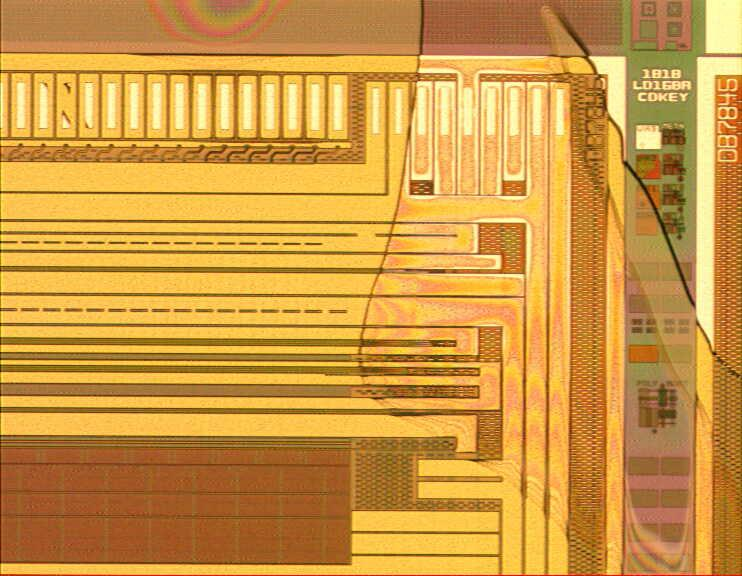COATING BAD: (40, 1, 742, 576)
